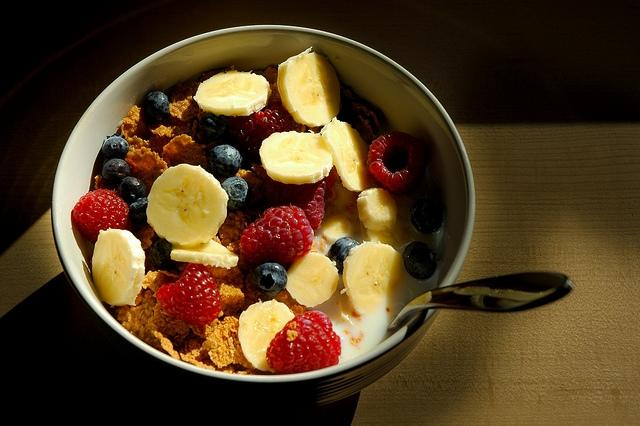banana: (146, 164, 229, 248), (340, 240, 406, 329), (277, 52, 340, 128), (238, 299, 296, 374), (259, 130, 333, 186), (92, 228, 145, 306), (319, 117, 372, 192), (194, 70, 272, 116), (286, 253, 339, 308), (360, 196, 414, 248), (170, 240, 238, 270), (357, 188, 398, 232), (321, 214, 352, 245), (336, 289, 362, 322)
blueberry: (402, 241, 436, 280), (411, 198, 444, 234), (328, 237, 360, 274), (208, 144, 242, 178), (252, 263, 287, 296), (222, 176, 252, 211), (148, 238, 175, 273), (118, 177, 146, 208), (143, 91, 169, 123), (200, 112, 228, 141), (102, 131, 130, 159), (102, 159, 130, 186), (128, 198, 150, 226)
raspberry: (238, 206, 314, 270), (267, 310, 342, 372), (156, 263, 222, 326), (228, 102, 300, 155), (366, 130, 424, 192), (264, 175, 326, 231), (73, 189, 128, 245)
